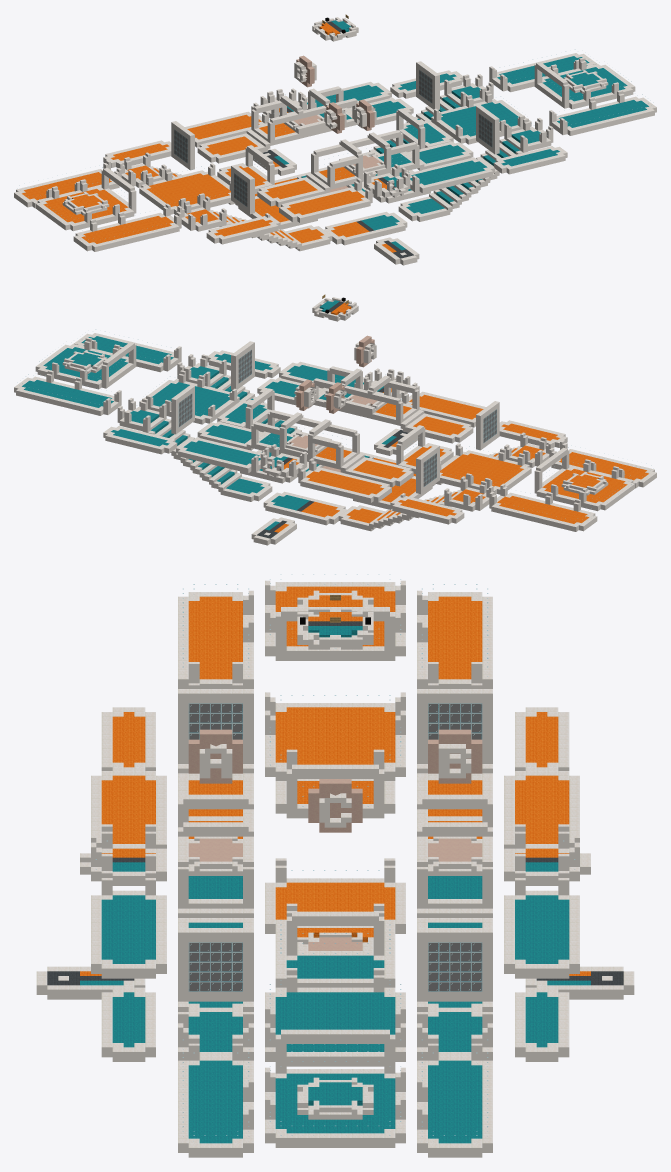
The model's file is minecraft.obj.
The picture shows the model from 3 angles, top to bottom: view 1: azimuth 30°, elevation 25°; view 2: azimuth 150°, elevation 25°; view 3: azimuth 270°, elevation 25°; orthographic projection. The views are drawn at different scales.
Size of the model in its own units: 1210 by 388 by 550.
